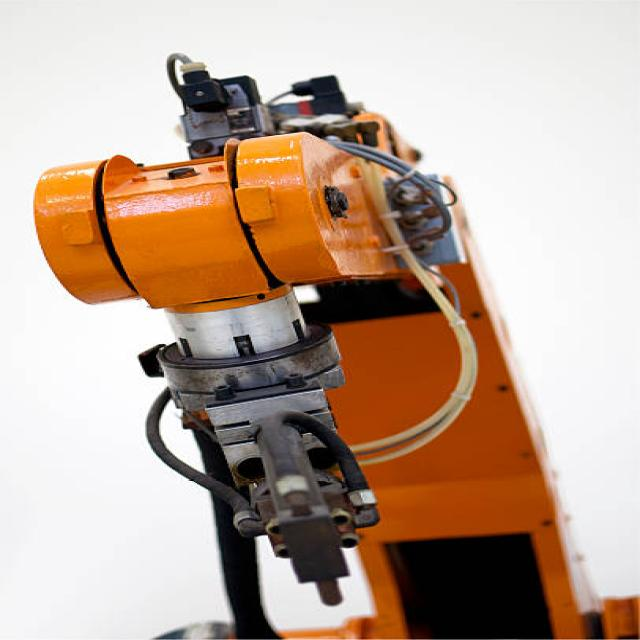Robotic-arm: (2, 49, 609, 640)
